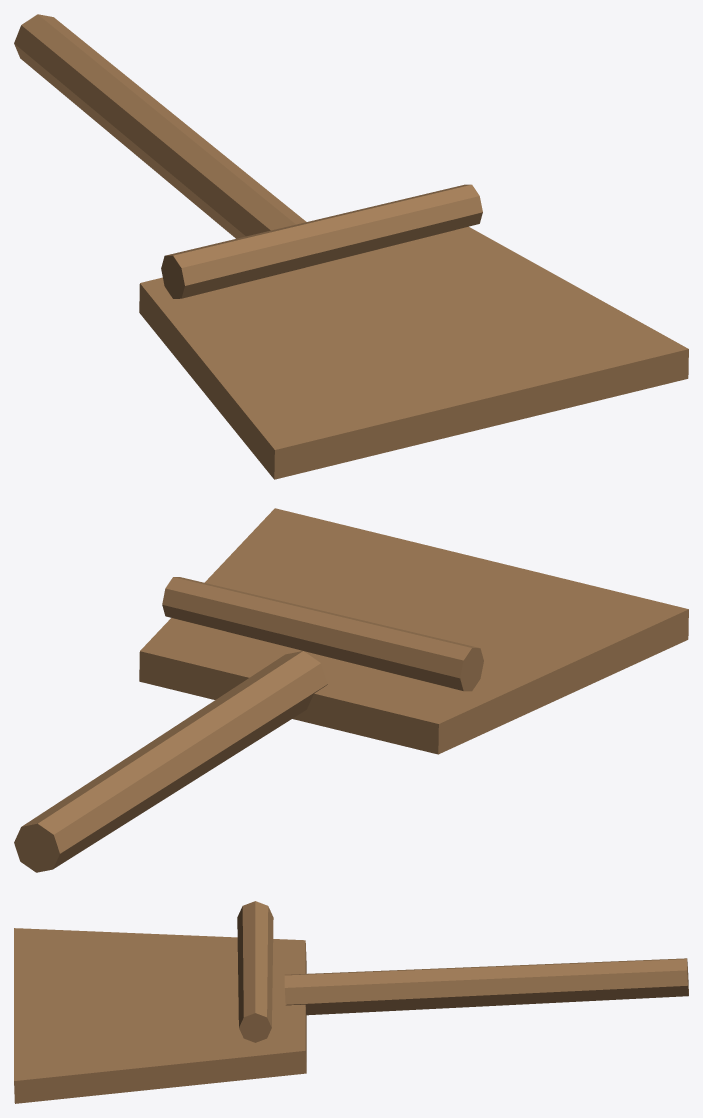
3 views of the same model, one above another, from view 1: azimuth 30°, elevation 25°; view 2: azimuth 150°, elevation 25°; view 3: azimuth 270°, elevation 25° (orthographic). The views are drawn at different scales.
Parts seen in each view (by area): view 1: CE-026 Broad wooden salt crust scraper batched; view 2: CE-026 Broad wooden salt crust scraper batched; view 3: CE-026 Broad wooden salt crust scraper batched.
Part boxes in pixels (x1,y1,x2,y2): CE-026 Broad wooden salt crust scraper batched: [14, 14, 688, 479]; CE-026 Broad wooden salt crust scraper batched: [14, 508, 688, 872]; CE-026 Broad wooden salt crust scraper batched: [14, 901, 688, 1103].
Bounding box in the file's own units: 0.36 × 0.078 × 0.671.
